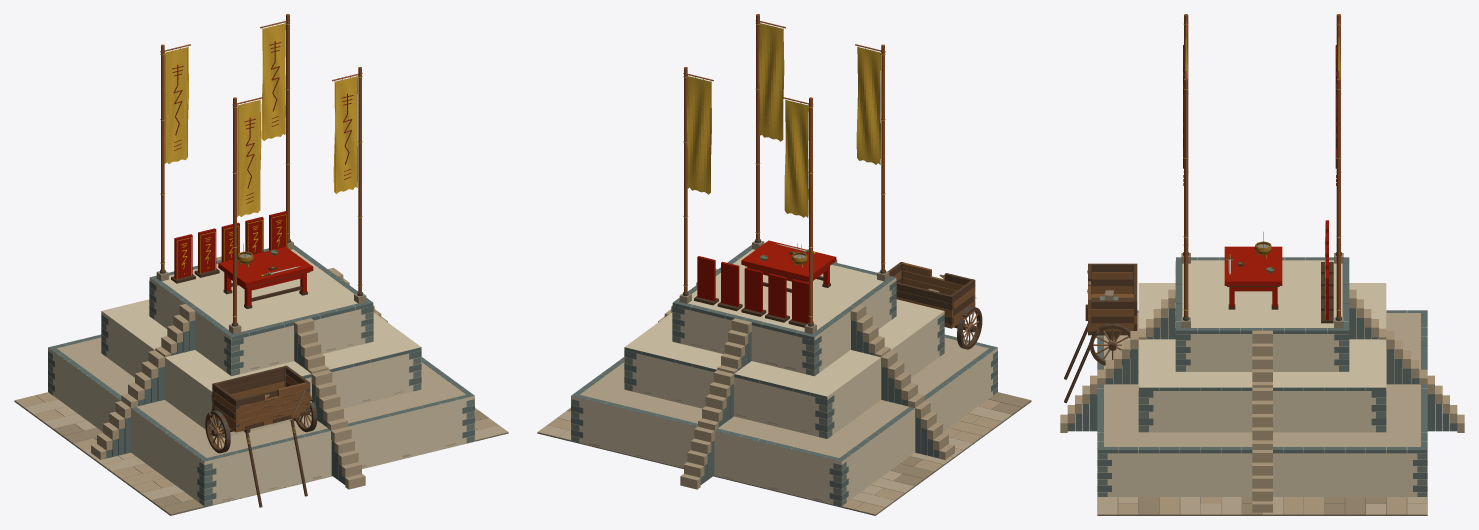
The model's file is xy_chechiguo.glb.
3 renders of one model, left to right at view 1: azimuth 30°, elevation 25°; view 2: azimuth 150°, elevation 25°; view 3: azimuth 270°, elevation 25°, orthographic. The views are drawn at different scales.
Parts seen in each view (by area): view 1: xy_chechiguo; view 2: xy_chechiguo; view 3: xy_chechiguo.
Boxes of the visible parts, left/top/right/bottom form: xy_chechiguo: left=14, top=14, right=508, bottom=515; xy_chechiguo: left=537, top=14, right=1031, bottom=515; xy_chechiguo: left=1060, top=14, right=1464, bottom=515.
Size of the model in its own units: 17 by 17.34 by 16.66.
